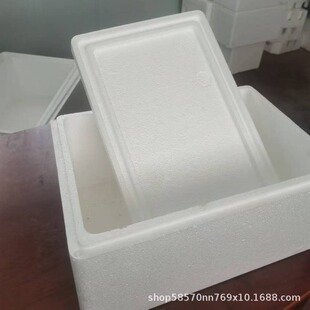泡沫箱: (51, 12, 310, 309)
